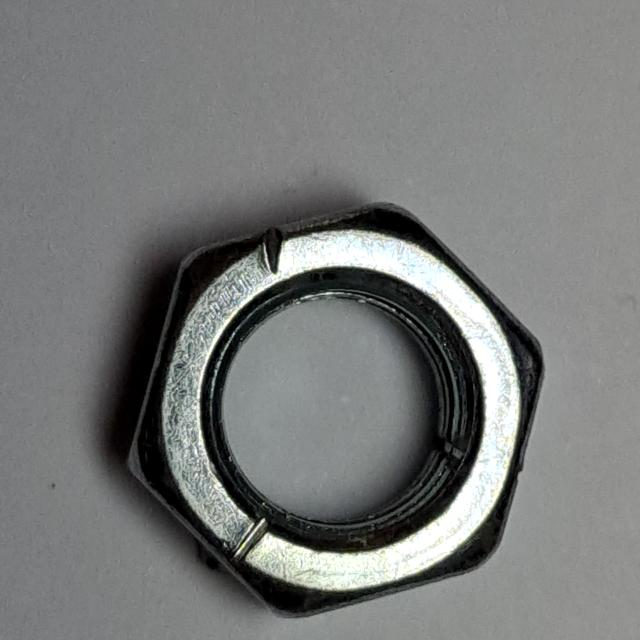Scratches: (85, 172, 564, 640)
